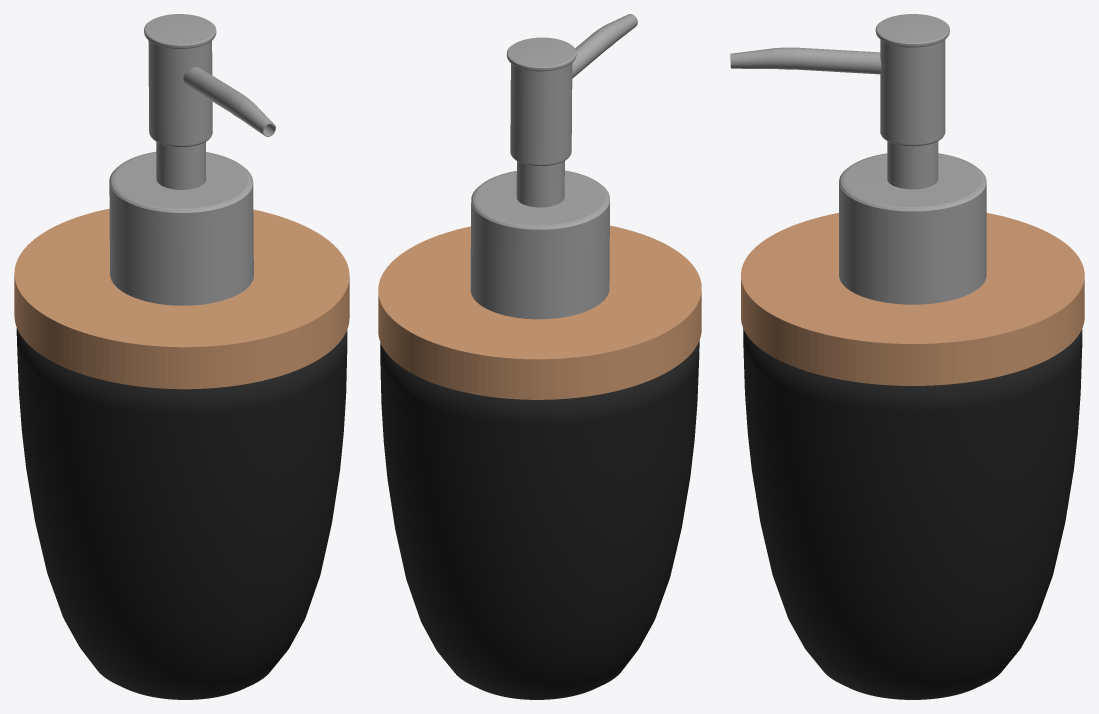
Rendered from Soap Dispenser.dae.
3 renders of one model, left to right at view 1: azimuth 30°, elevation 25°; view 2: azimuth 150°, elevation 25°; view 3: azimuth 270°, elevation 25°, orthographic. The views are drawn at different scales.
Visible parts, largest first — view 1: Cylinder; view 2: Cylinder; view 3: Cylinder.
Part boxes in pixels (x1=…): Cylinder: x1=14, y1=14, x2=349, y2=699; Cylinder: x1=378, y1=14, x2=701, y2=699; Cylinder: x1=730, y1=14, x2=1084, y2=699.
Size of the model in its own units: 3.86 by 4.12 by 8.26.
